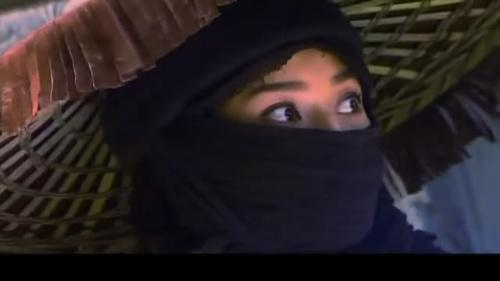OK: (218, 70, 388, 240)
